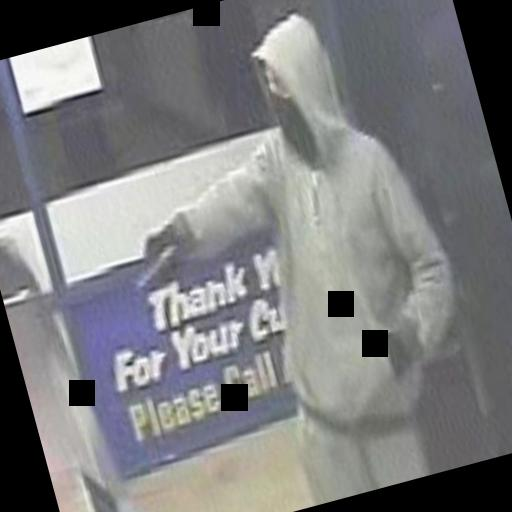Handgun: (114, 226, 188, 302)
